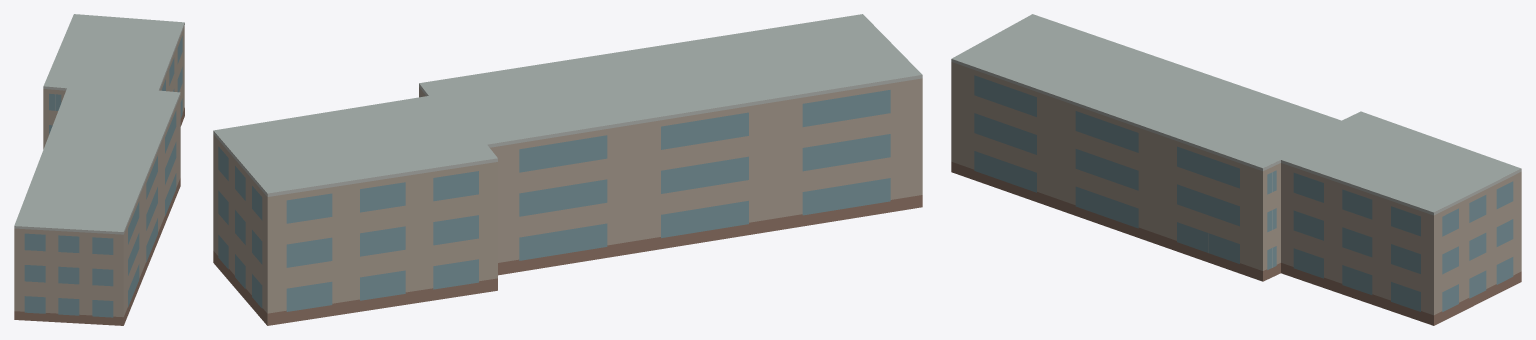
The model's file is survey-upis-32647090.glb.
3 renders of one model, left to right at view 1: azimuth 30°, elevation 25°; view 2: azimuth 150°, elevation 25°; view 3: azimuth 270°, elevation 25°, orthographic. The views are drawn at different scales.
Visible parts, largest first — view 1: survey-upis-32647090.tmp; view 2: survey-upis-32647090.tmp; view 3: survey-upis-32647090.tmp.
Part boxes in pixels (<box>): survey-upis-32647090.tmp: <box>14,14,184,325</box>; survey-upis-32647090.tmp: <box>213,14,922,325</box>; survey-upis-32647090.tmp: <box>951,14,1521,325</box>.
Size of the model in its own units: 34.37 by 9.15 by 41.71.
